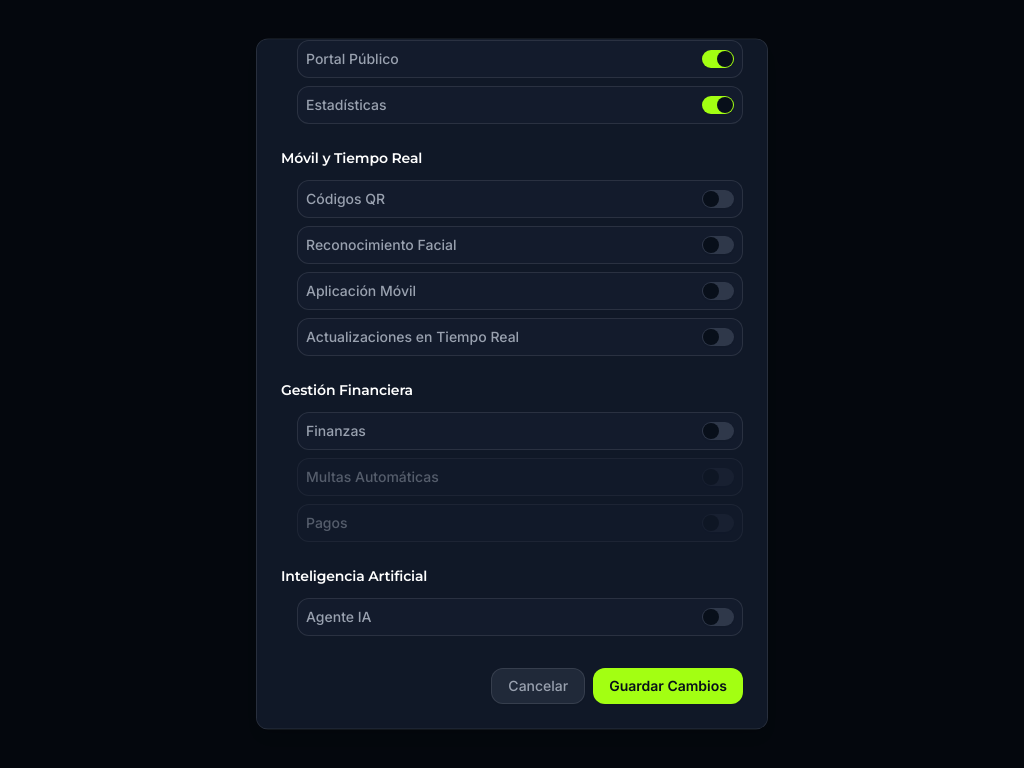
LeagueFeaturesEditor › shows the API error and keeps the dialog open when saving fails
The image size is (1024, 768).
(page scrolled)
Click the button "Guardar Cambios": (668, 686) [593,668,743,704]
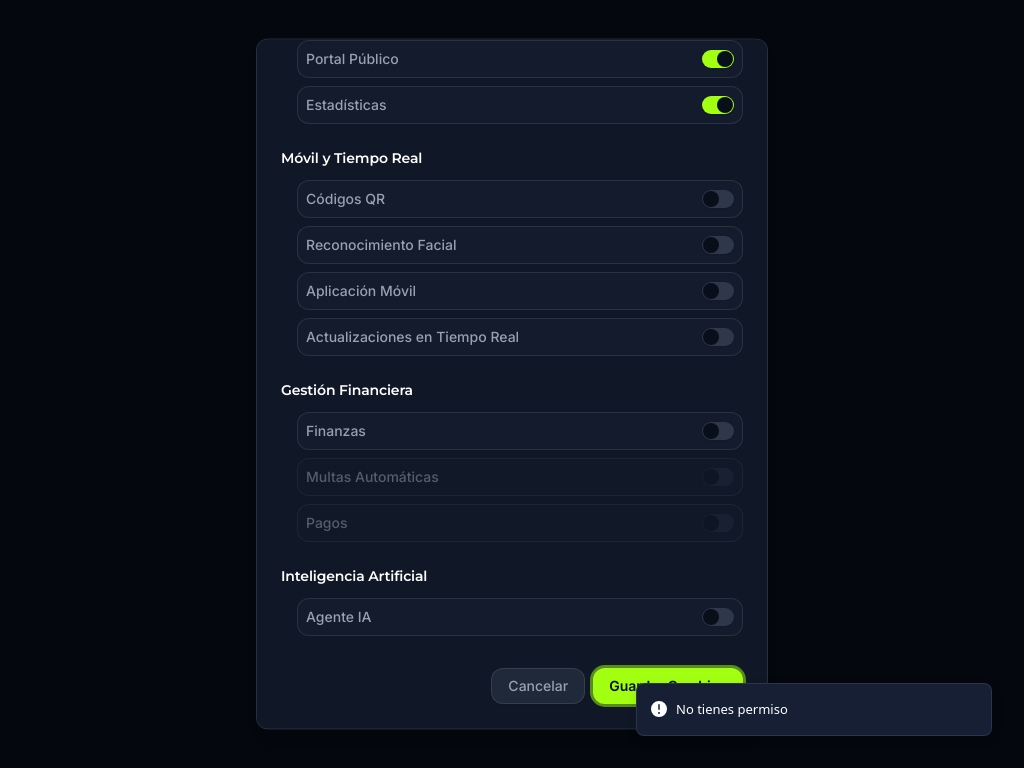
Result: the text "No tienes permiso" is shown at [676,700,788,719]
